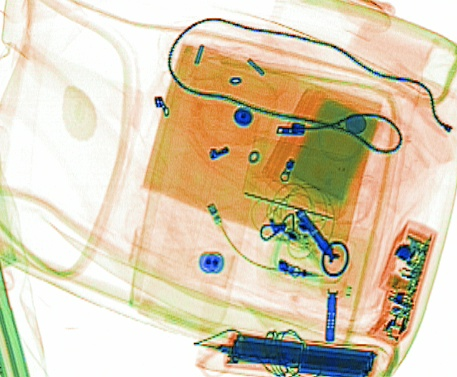powerbank: (219, 330, 377, 375)
